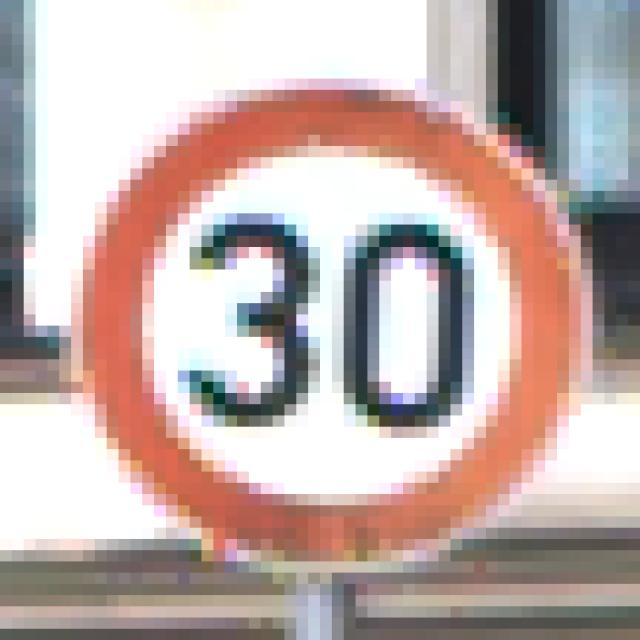Speed Limit -30-: (59, 51, 569, 567)
